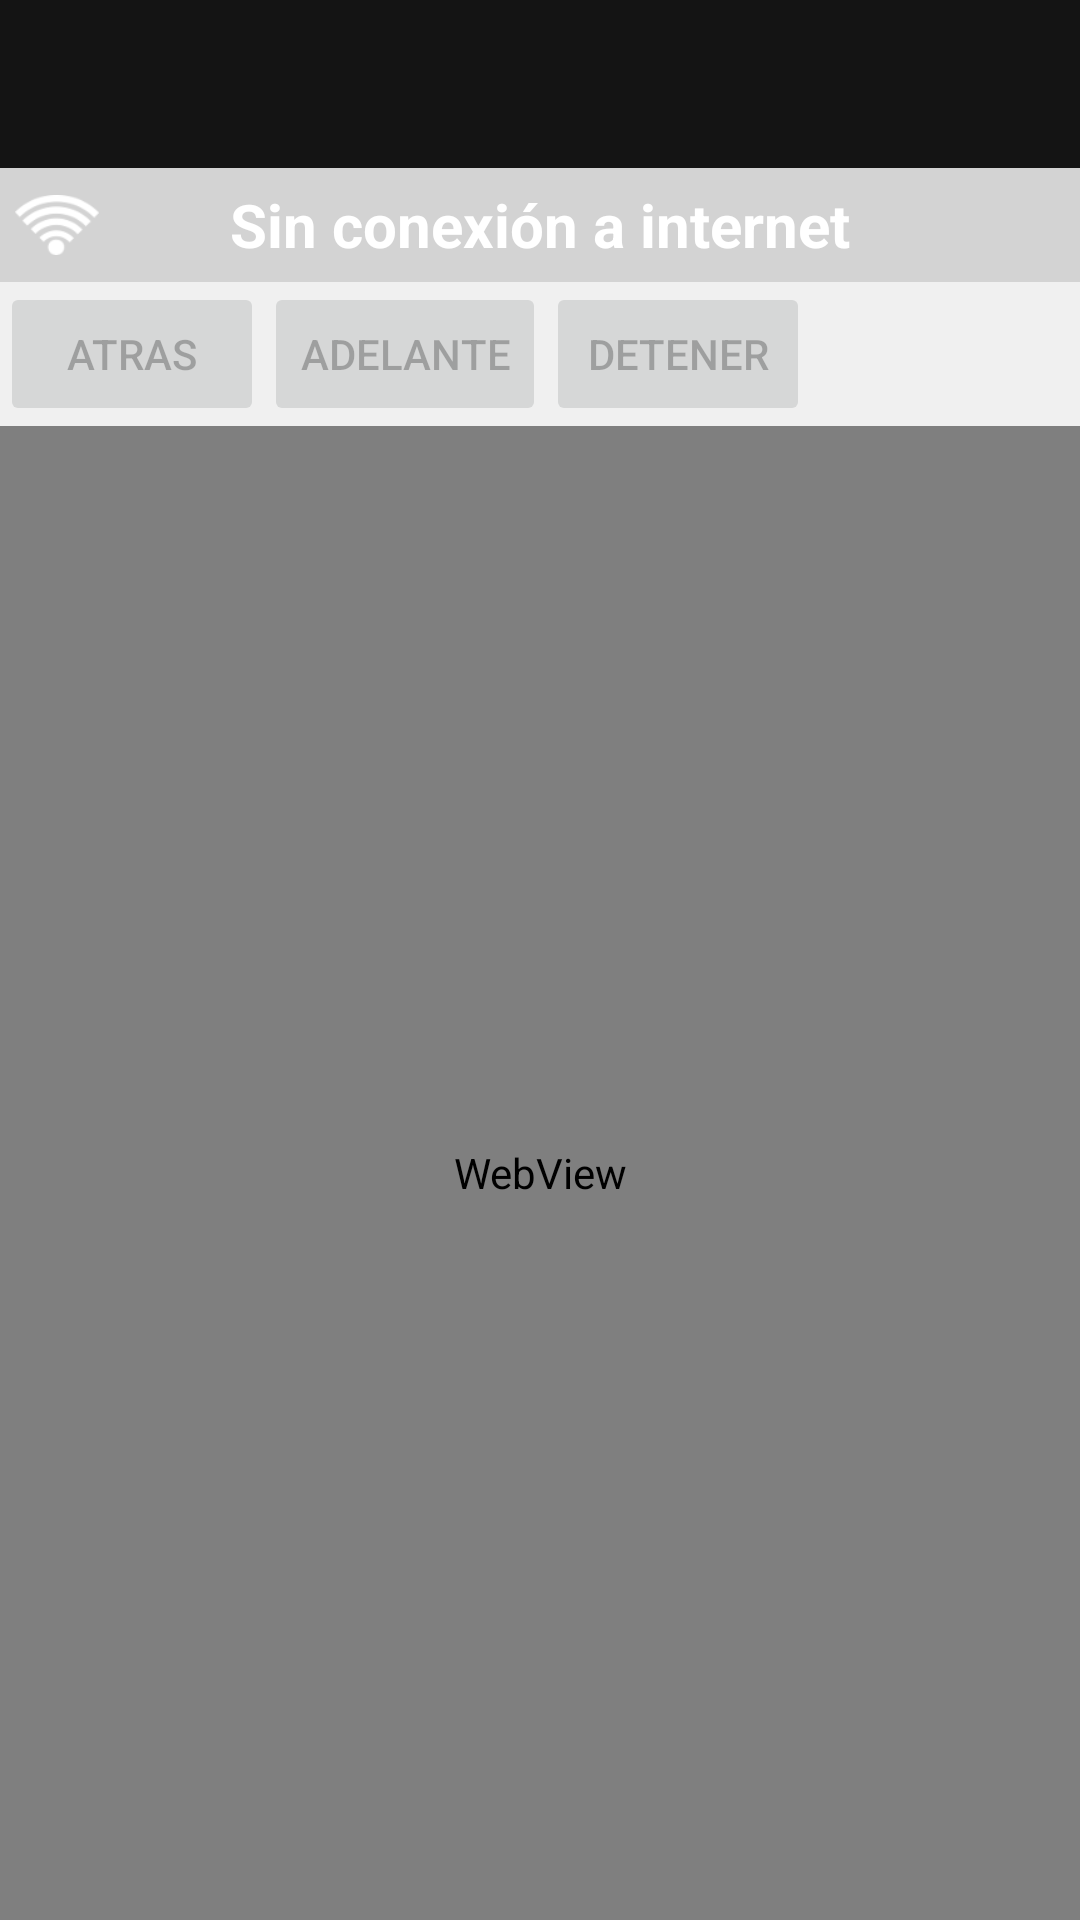

Where icons sit on this 1080x1920 app screen, as (x1, y1, x2, y2):
conexion: (16, 195, 98, 255)
